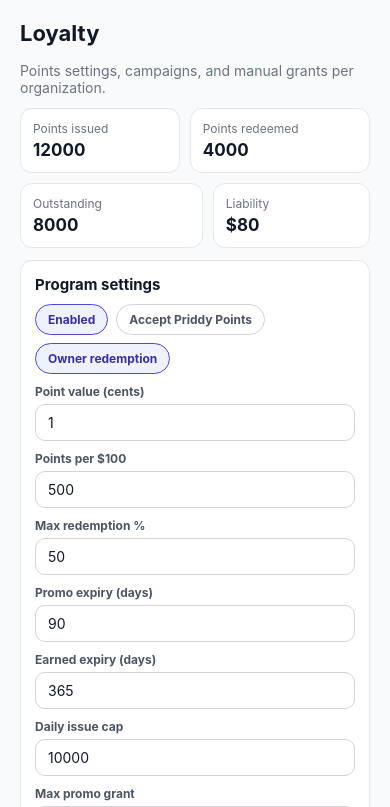
it: OwnerLoyaltyScreen › saves settings with web's exact projection
Replace the text in the field named "Max redemption %" with "75": (195, 556) [35,538,355,575]
(page scrolled)
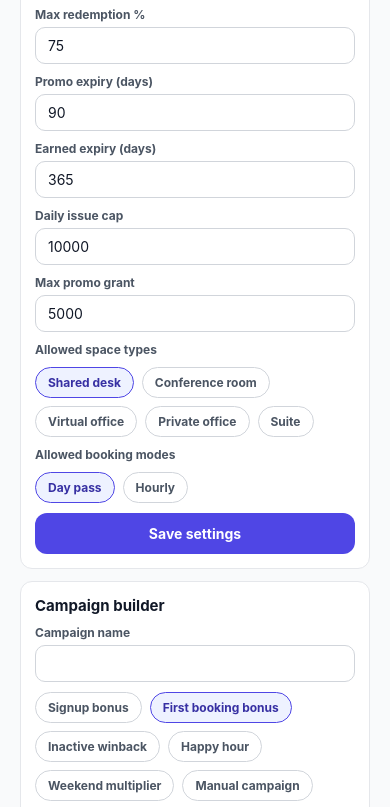
Click the button with aria-label "Allow Suite": (286, 422) [258,406,314,437]
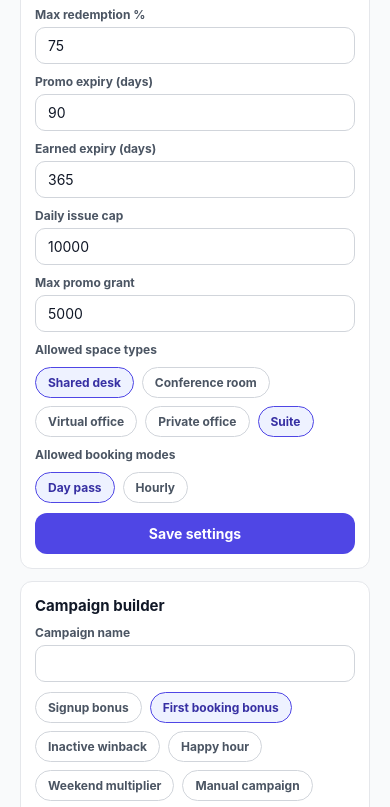
Click the button with aria-label "Save loyalty settings": (195, 534) [35,513,355,554]
(page scrolled)
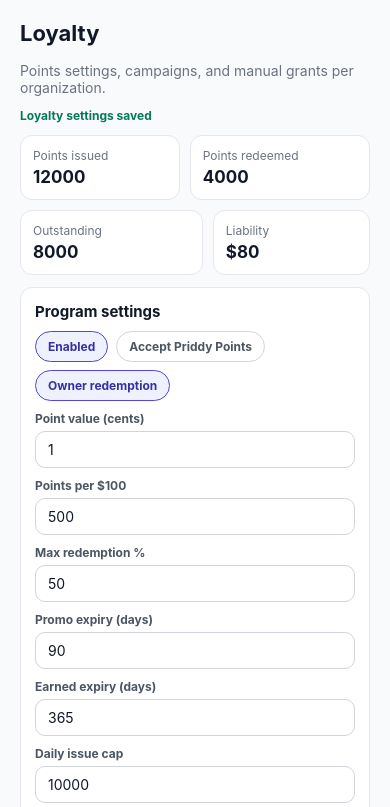
Expected: the text "Loyalty settings saved" is shown, [20,108,152,123]
